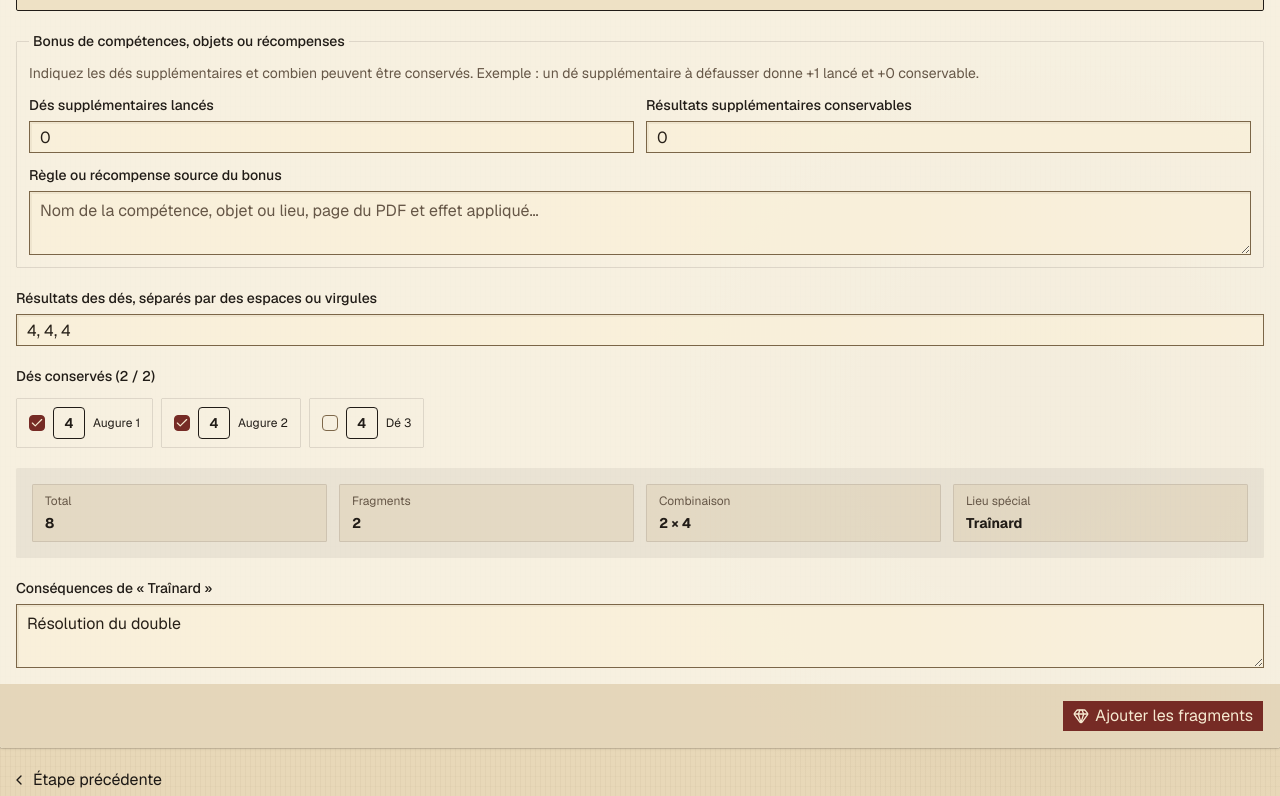
Test: régressions après-bataille relevées par audit › refuse de conserver les deux dés de l’Augure
This screenshot has width=1280, height=796.
(page scrolled)
Click the button "Ajouter les fragments": click(1163, 716) x1=1062 y1=700 x2=1264 y2=732
(page scrolled)
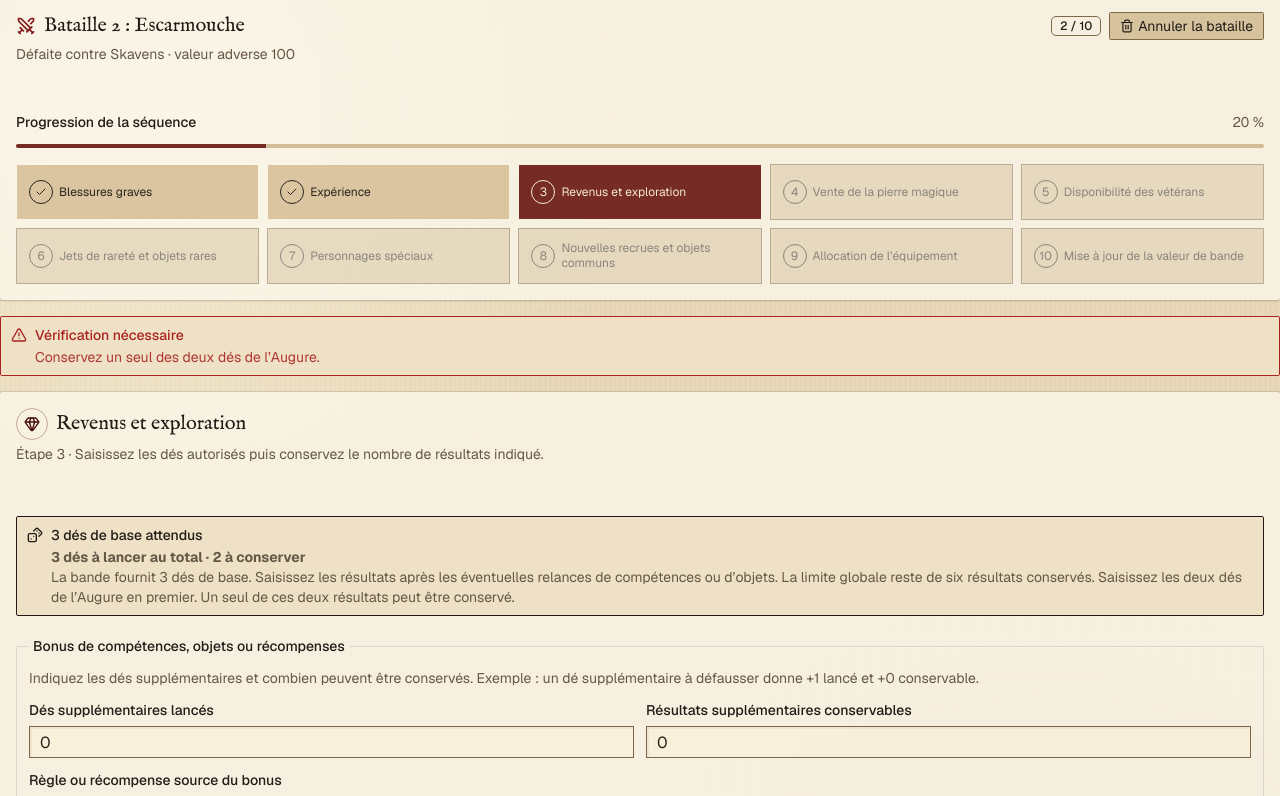
Now the text "Conservez un seul des deux dés de l’Augure." is shown, box x1=35 y1=348 x2=320 y2=366
